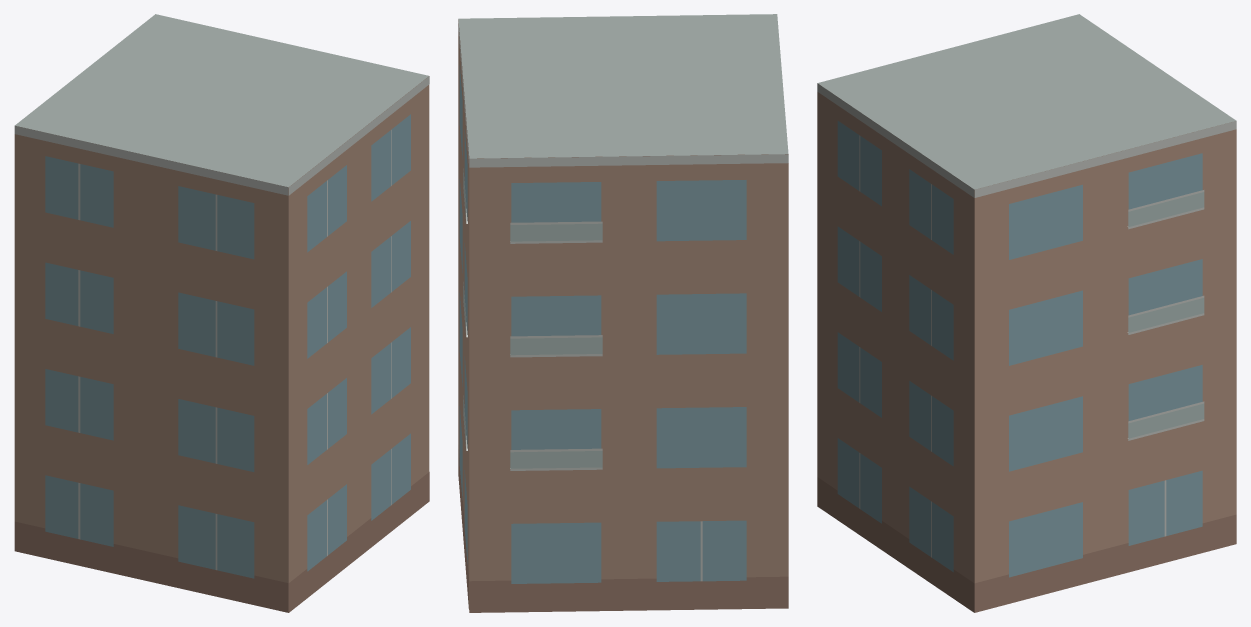
File: residential-5d364019-a35c-4f00-a4d1-2a5330454603.glb
3 views of the same model, side by side, from view 1: azimuth 30°, elevation 25°; view 2: azimuth 150°, elevation 25°; view 3: azimuth 270°, elevation 25° (orthographic). The views are drawn at different scales.
Visible parts, largest first — view 1: residential-5d364019-a35c-4f00-a4d1-2a5330454603.tmp; view 2: residential-5d364019-a35c-4f00-a4d1-2a5330454603.tmp; view 3: residential-5d364019-a35c-4f00-a4d1-2a5330454603.tmp.
Boxes of the visible parts, box(x1,y1,x2,y2) form: residential-5d364019-a35c-4f00-a4d1-2a5330454603.tmp: box(14, 14, 429, 612); residential-5d364019-a35c-4f00-a4d1-2a5330454603.tmp: box(458, 14, 788, 612); residential-5d364019-a35c-4f00-a4d1-2a5330454603.tmp: box(817, 14, 1236, 612).
Bounding box in the file's own units: 10.87 × 12.2 × 10.96.
